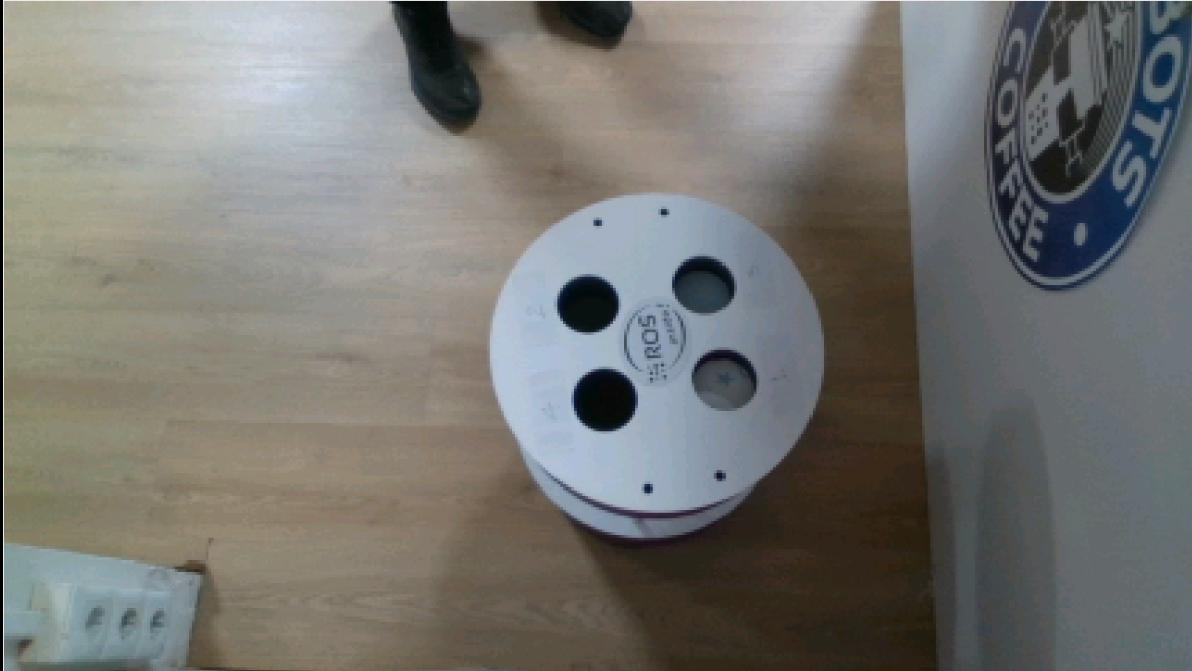hole: (689, 343, 762, 413), (569, 364, 642, 434), (551, 270, 623, 339), (668, 249, 741, 314)
